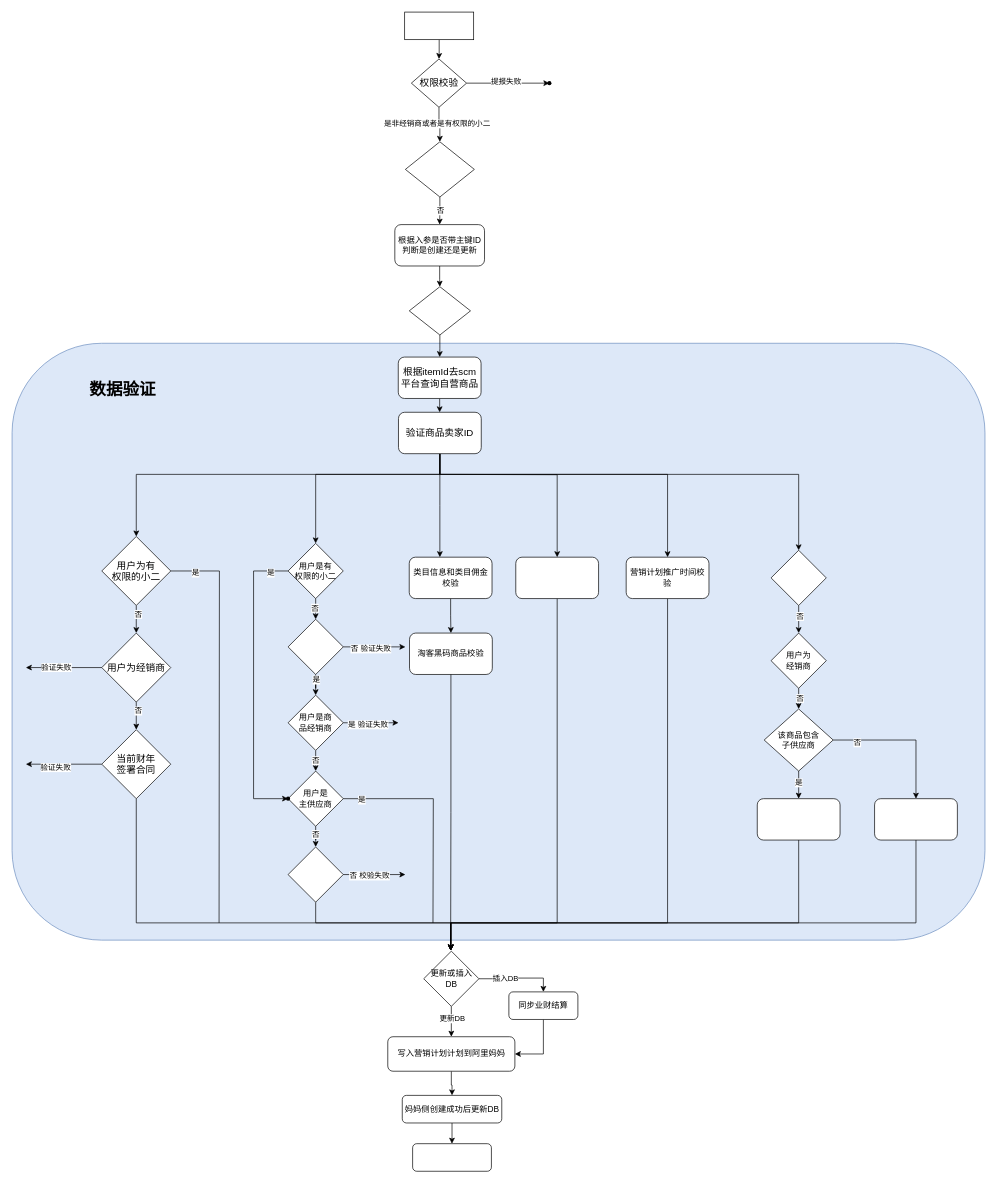
This 997x1183 diagram has some shape labels left out. The shapes that lost their labels are listed below. From the top down, each one's centre as x and y in pixels, then its label:
At point (439, 25): "提报单品营销".
At point (439, 169): "红码商品 校验".
At point (440, 310): "佣金校验".
At point (557, 577): "营销计划总量校验".
At point (798, 577): "用户为有 权限小二".
At point (315, 646): "用户是商 品供应商".
At point (798, 819): "状态为待 子供应商审核中".
At point (915, 819): "单供应商状态为 审核通过".
At point (315, 874): "用户是 从供应商".
At point (451, 1157): "发送猫U消息".
